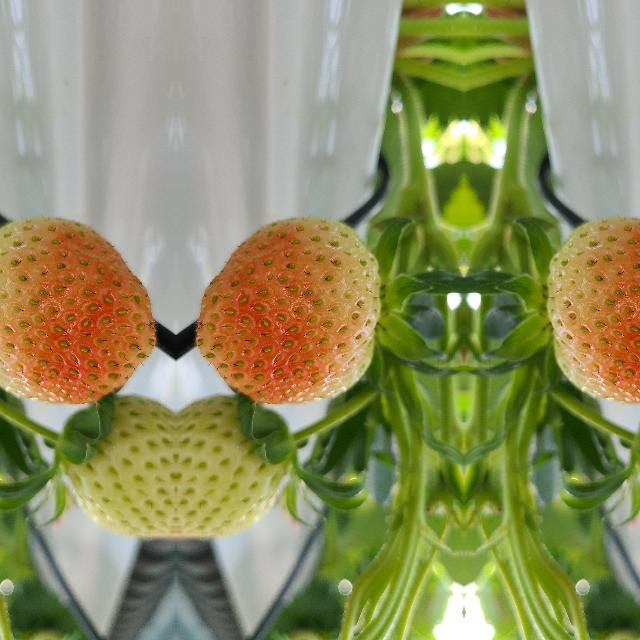Health_25: (175, 388, 281, 542), (69, 388, 175, 542)
Health_50: (192, 212, 380, 404), (0, 212, 158, 404), (545, 212, 640, 404)
